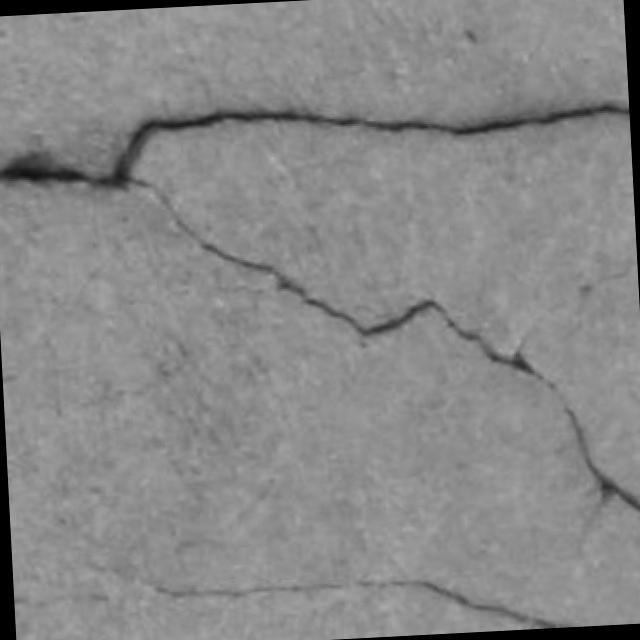crack: (131, 180, 639, 513), (0, 103, 629, 189), (110, 104, 629, 183), (149, 579, 573, 628), (524, 362, 639, 515)
